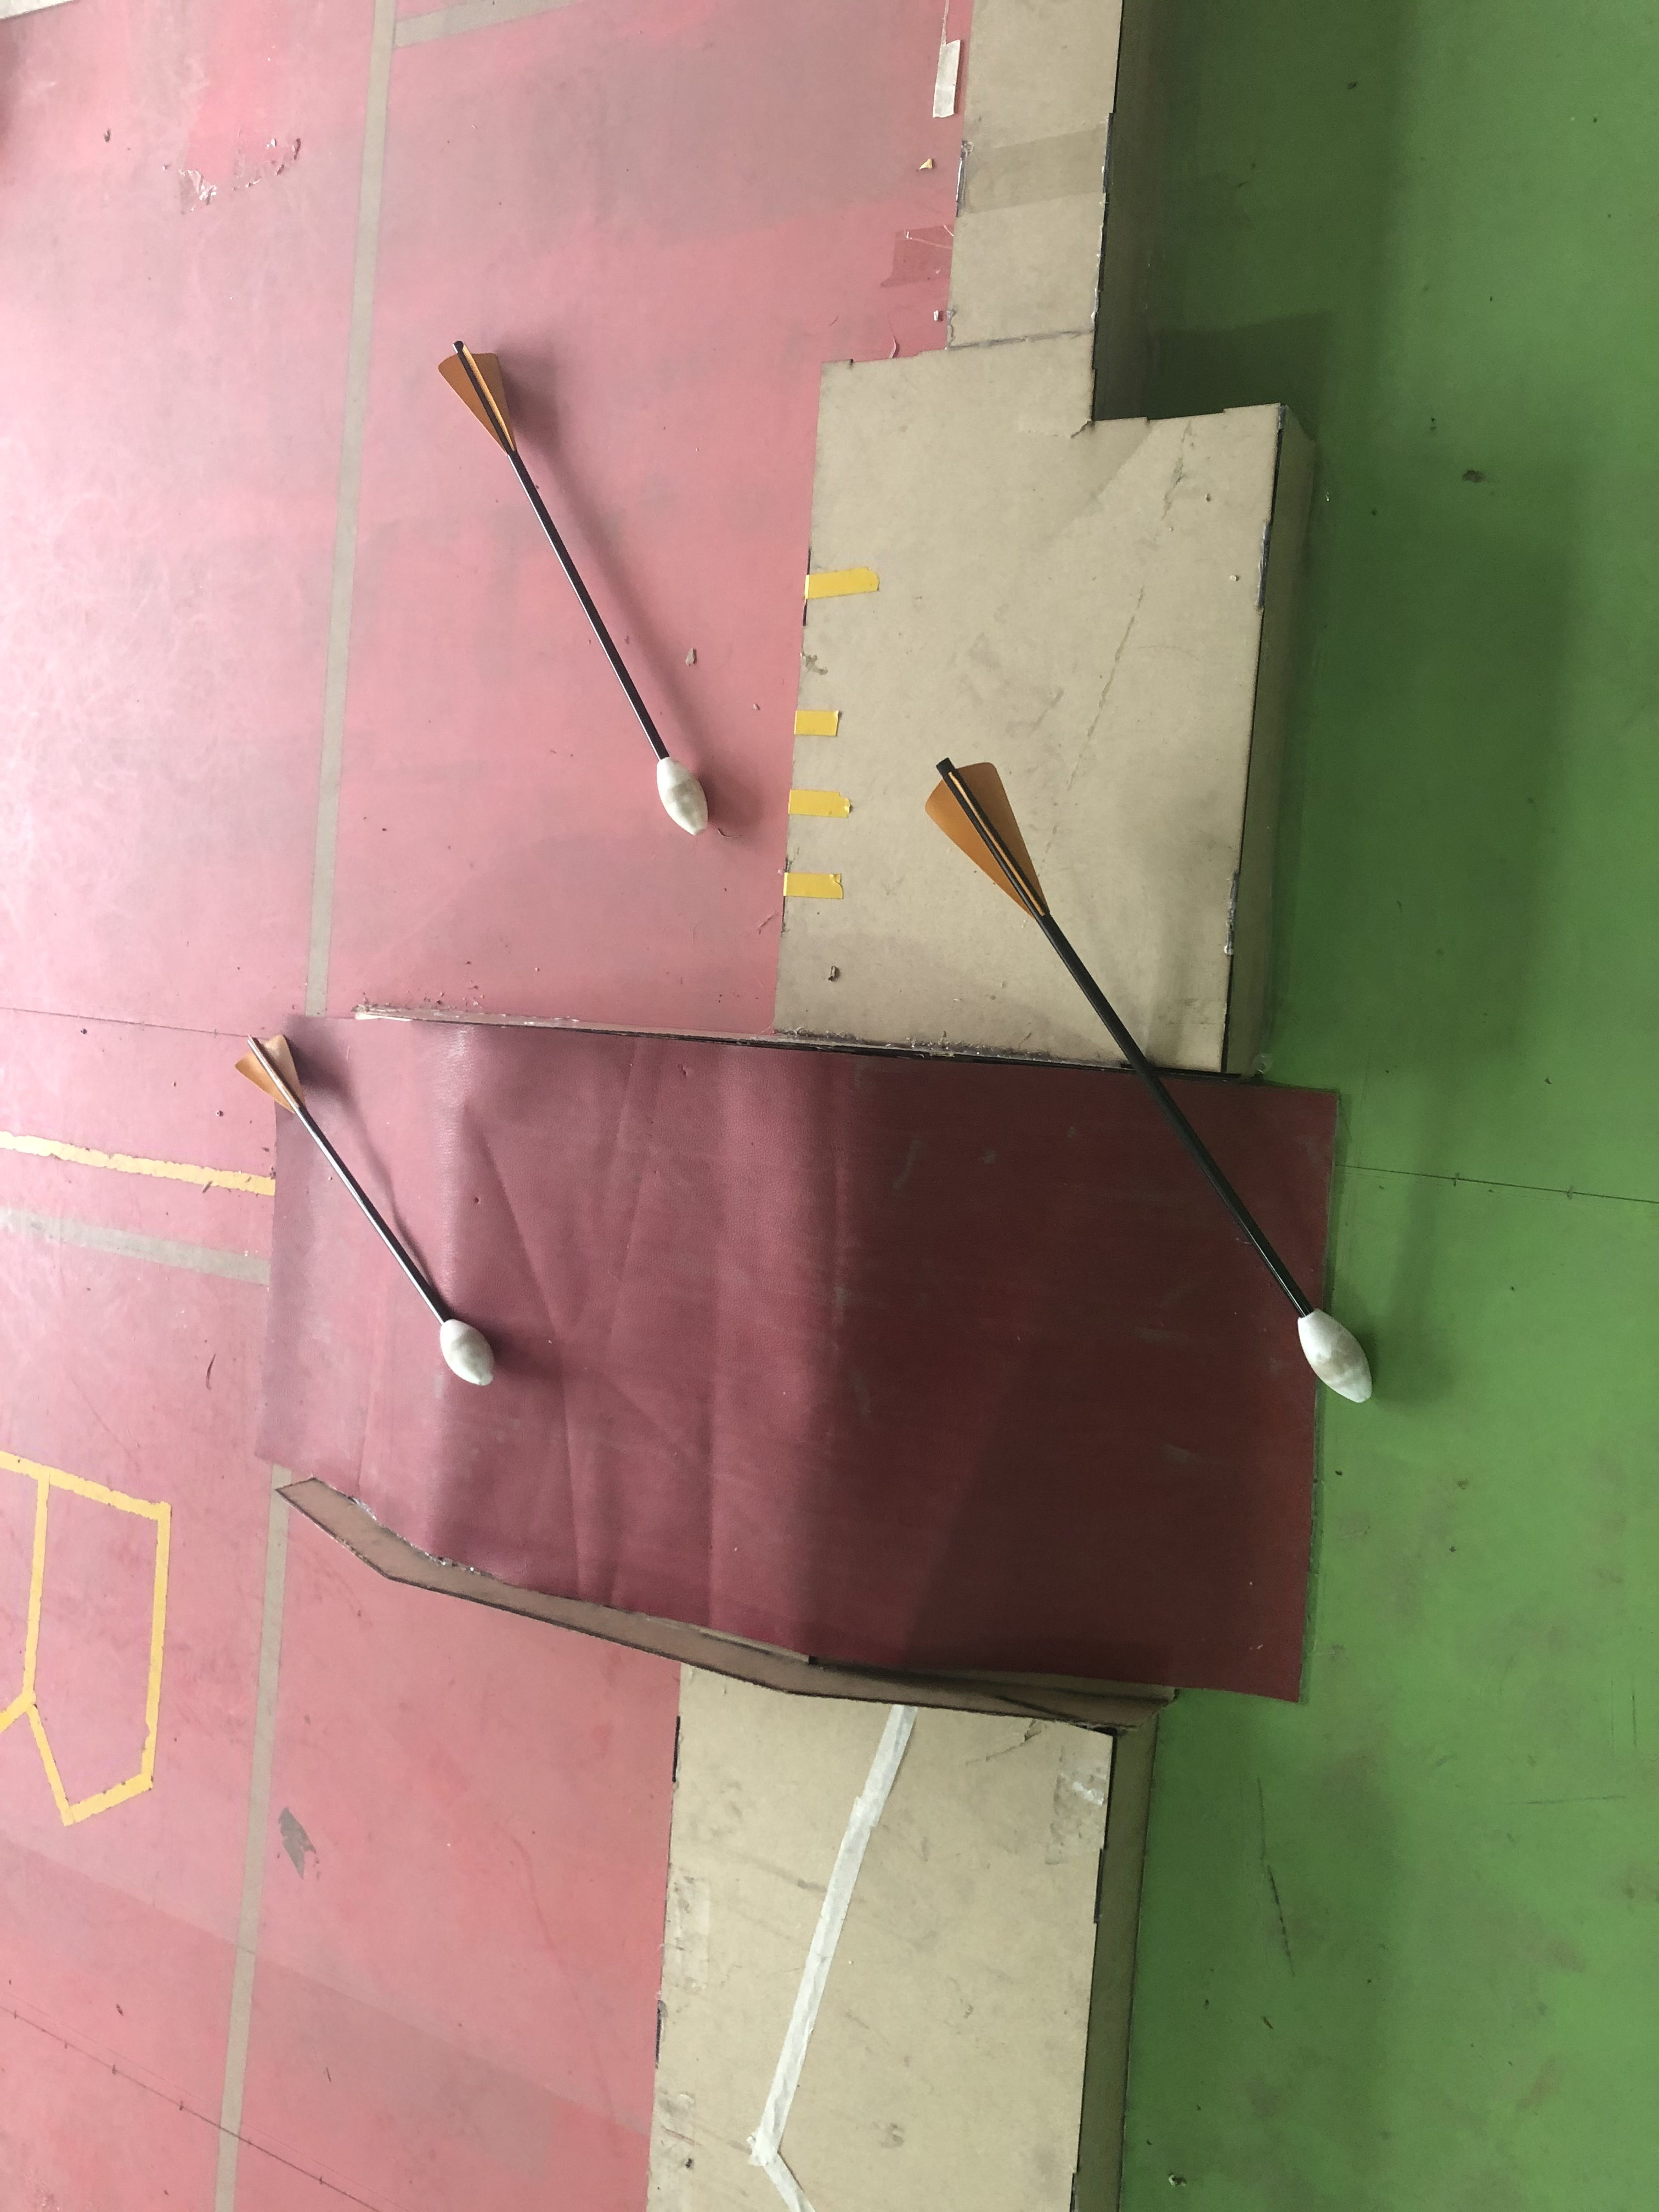arrow: (915, 747, 1368, 1404), (432, 326, 713, 840), (235, 1028, 488, 1386)
arrowFront: (1293, 1301, 1371, 1409), (652, 745, 716, 843), (436, 1312, 488, 1386)
